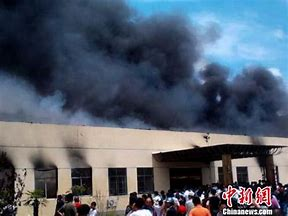smoke: (1, 1, 288, 133)
